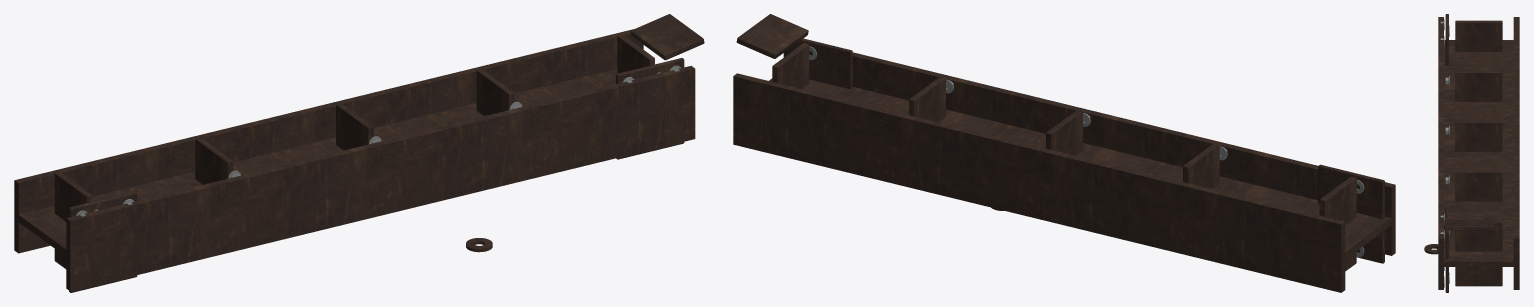
File: f3_riveted_girder.glb
3 renders of one model, left to right at view 1: azimuth 30°, elevation 25°; view 2: azimuth 150°, elevation 25°; view 3: azimuth 270°, elevation 25°, orthographic. The views are drawn at different scales.
Visible parts, largest first — view 1: f3_oxidized_iron_surface, f3_bare_worn_steel_surface; view 2: f3_oxidized_iron_surface, f3_bare_worn_steel_surface; view 3: f3_oxidized_iron_surface, f3_bare_worn_steel_surface.
Boxes of the visible parts, box(x1,y1,x2,y2) form: f3_oxidized_iron_surface: box(14, 14, 704, 292); f3_bare_worn_steel_surface: box(75, 65, 681, 216); f3_oxidized_iron_surface: box(733, 14, 1395, 292); f3_bare_worn_steel_surface: box(809, 46, 1364, 257); f3_oxidized_iron_surface: box(1424, 14, 1519, 292); f3_bare_worn_steel_surface: box(1440, 19, 1449, 287).
Bounding box in the file's own units: 4.09 × 0.8934 × 0.725.
2 materials, 2 textured.
